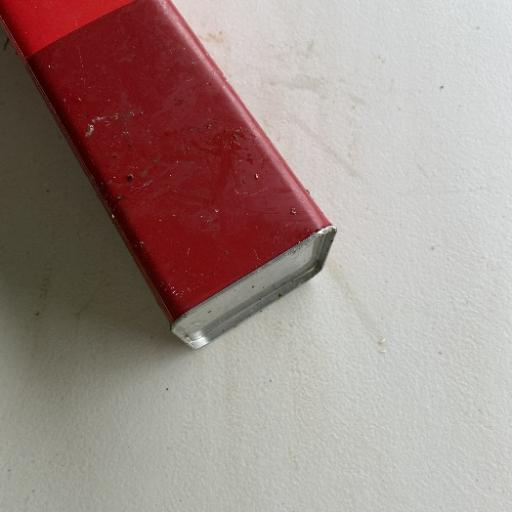Metal: (2, 1, 338, 351)
